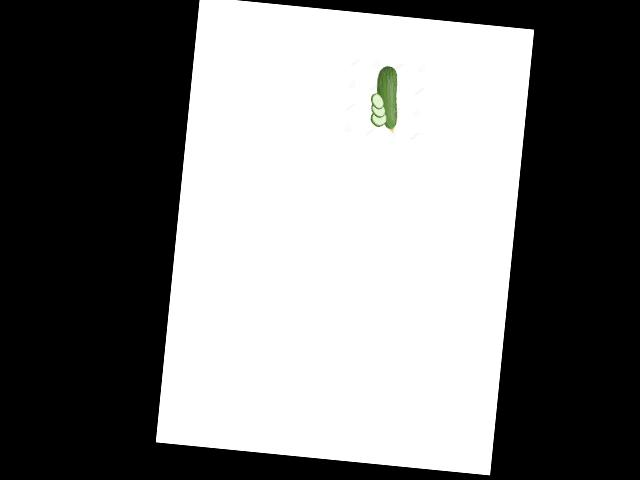cucumber: (372, 64, 401, 132)
